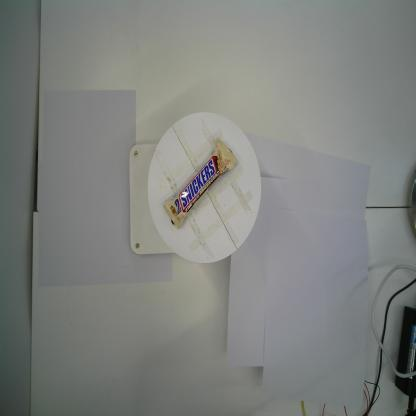Chocolate: (162, 138, 240, 234)
